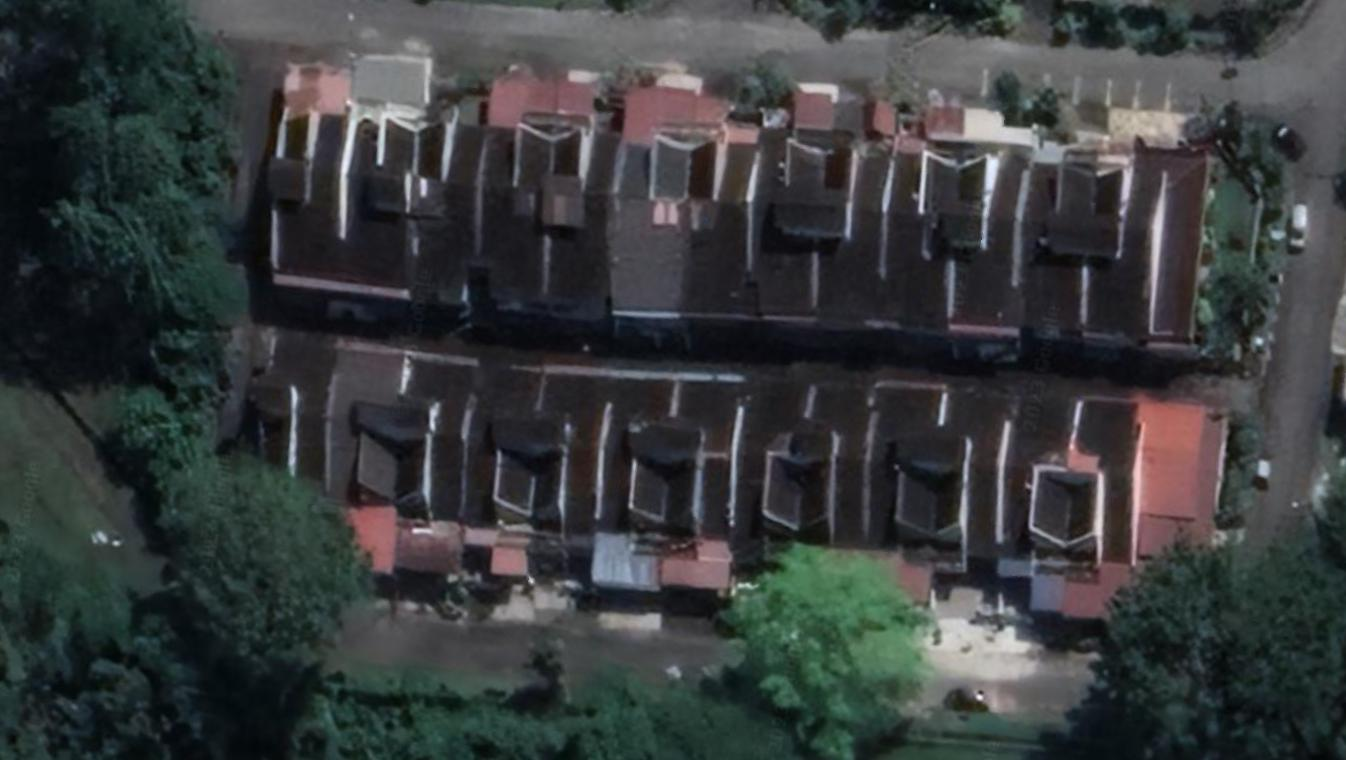building: (1092, 130, 1216, 364), (340, 48, 443, 306), (609, 63, 703, 334), (591, 357, 687, 608), (682, 66, 768, 333), (961, 91, 1044, 367), (484, 54, 566, 333), (260, 57, 354, 300), (1124, 390, 1250, 566), (821, 87, 908, 341), (466, 351, 556, 596), (991, 378, 1080, 622), (756, 67, 834, 339), (401, 340, 484, 594), (537, 356, 624, 598), (663, 362, 750, 603), (338, 330, 417, 590), (553, 63, 628, 333), (886, 91, 964, 348), (862, 362, 940, 613), (242, 311, 342, 498), (739, 366, 826, 573), (930, 372, 1012, 590), (416, 91, 492, 318), (1061, 387, 1132, 627), (1031, 119, 1101, 357), (809, 364, 871, 549)
